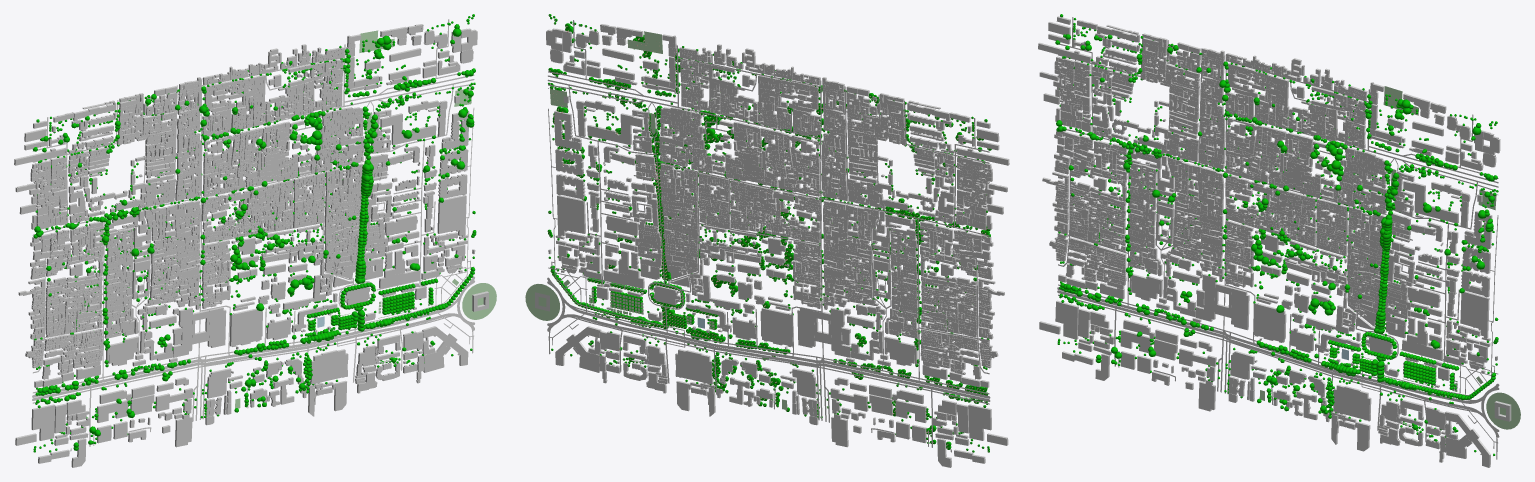
The picture shows the model from 3 angles, left to right: view 1: azimuth 30°, elevation 25°; view 2: azimuth 150°, elevation 25°; view 3: azimuth 330°, elevation 25°; orthographic projection.
Parts seen in each view (by area): view 1: TPX_Buildings, TPX_RoadsOutlines, TPX_GreenAreas; view 2: TPX_Buildings, TPX_RoadsOutlines, TPX_GreenAreas; view 3: TPX_Buildings, TPX_RoadsOutlines, TPX_GreenAreas.
Boxes of the visible parts, x1,y1,x2,y2 form: TPX_Buildings: (14,24,488,467); TPX_RoadsOutlines: (32,19,474,451); TPX_GreenAreas: (235,30,496,408); TPX_Buildings: (535,24,1009,467); TPX_RoadsOutlines: (547,20,990,452); TPX_GreenAreas: (525,31,787,409); TPX_Buildings: (1038,16,1511,467); TPX_RoadsOutlines: (1057,17,1499,459); TPX_GreenAreas: (1259,86,1520,429).
Bounding box in the file's own units: 1261 × 940 × 30.52.
